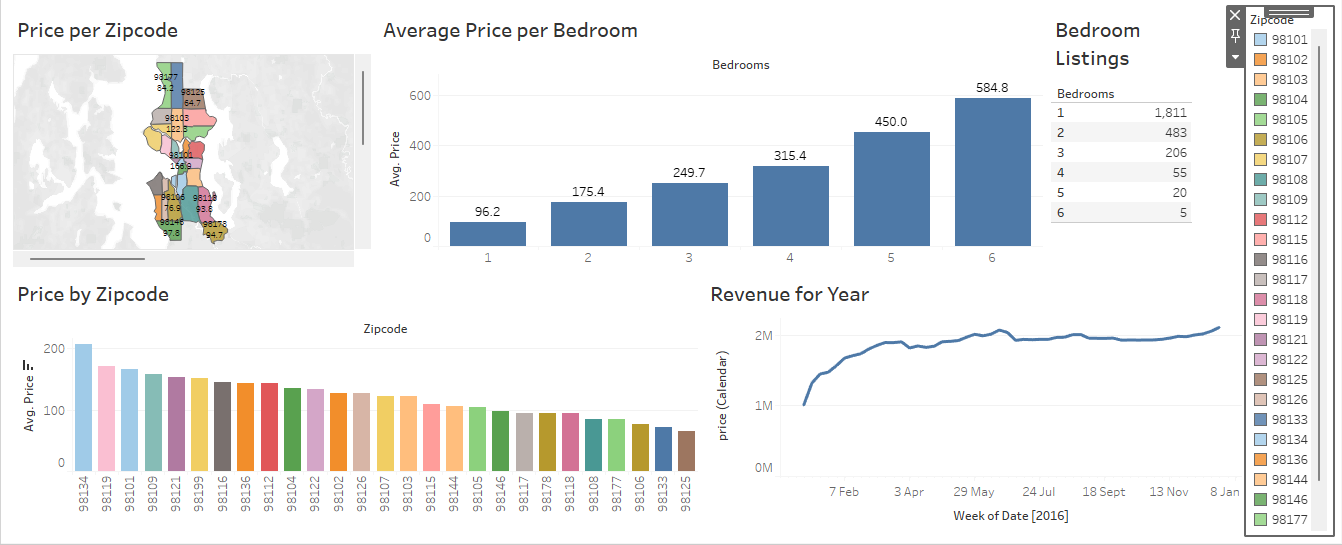

The page's visual inventory and layout, read from the dashboard file:
{"tool":"tableau","page":{"name":"Dashboard 1","canvas":[1000,1000],"units":"permille","ordinal":0},"visuals":[{"type":"worksheet","title":"Sheet 2","mark":"Multipolygon","box":[6,14.7,273.1,485.3]},{"type":"worksheet","title":"Sheet 4","mark":"Automatic","rows":["price"],"cols":["bedrooms"],"box":[279.1,14.7,501.7,485.3]},{"type":"worksheet","title":"Sheet 5","mark":"Automatic","rows":["bedrooms"],"box":[780.8,14.7,148.3,485.3]},{"type":"legend","title":"Sheet 2","param":"[federated.16k0ngu1sxztvh18zwt360zqjexi].[none:zipcode:ok]","box":[929.1,14.7,64.9,970.6]},{"type":"worksheet","title":"Sheet 1","mark":"Automatic","rows":["price"],"cols":["zipcode"],"box":[6,500,517.3,485.3]},{"type":"worksheet","title":"Sheet 3","mark":"Automatic","rows":["price (Calendar)"],"cols":["date"],"box":[523.3,500,405.8,485.3]}]}

Visuals, with their boxes on the dashboard's canvas, which has no fixed pixel size, in thousandths of its width and height (x1, y1, x2, y2). These are canvas units, not pixel positions in the 1342x545 screenshot, which may show the page scaled, cropped or inside an application window:
"Sheet 2" worksheet (Multipolygon marks): detection(6, 15, 279, 500)
"Sheet 4" worksheet: detection(279, 15, 781, 500)
"Sheet 5" worksheet: detection(781, 15, 929, 500)
"Sheet 2" legend: detection(929, 15, 994, 985)
"Sheet 1" worksheet: detection(6, 500, 523, 985)
"Sheet 3" worksheet: detection(523, 500, 929, 985)
